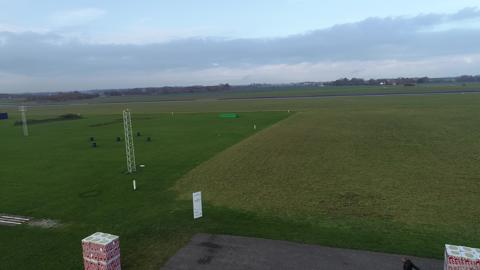RockwoolPallet: (80, 230, 121, 270)
